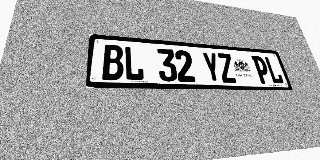2: (174, 50, 195, 82)
3: (157, 48, 178, 82)
B: (102, 44, 124, 80)
L: (124, 46, 145, 81), (264, 57, 285, 84)
P: (251, 56, 272, 84)
Y: (201, 52, 222, 83)
Z: (216, 53, 237, 83)
